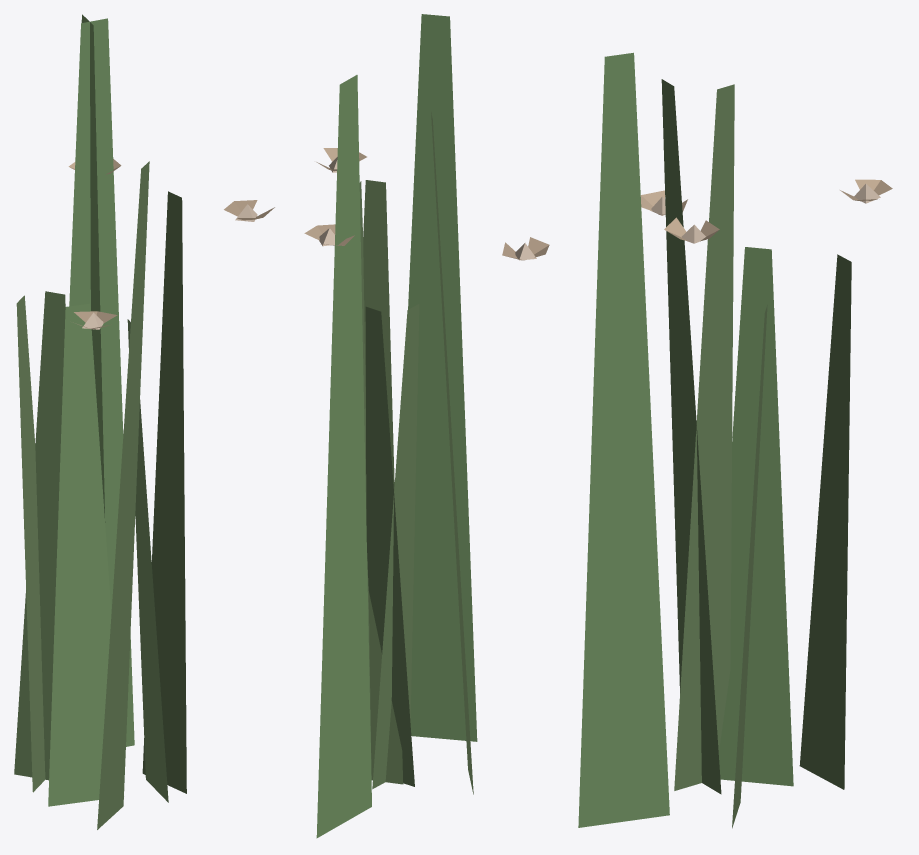
The model's file is shui.pucao__summer.glb.
3 views of the same model, side by side, from view 1: azimuth 30°, elevation 25°; view 2: azimuth 150°, elevation 25°; view 3: azimuth 270°, elevation 25° (orthographic). The views are drawn at different scales.
Parts seen in each view (by area): view 1: shui.pucao__summer; view 2: shui.pucao__summer; view 3: shui.pucao__summer.
Boxes of the visible parts, x1,y1,x2,y2 form: shui.pucao__summer: (14,14,274,829); shui.pucao__summer: (304,14,549,838); shui.pucao__summer: (578,52,892,828).
Bounding box in the file's own units: 0.6381 × 2.11 × 0.7877.
